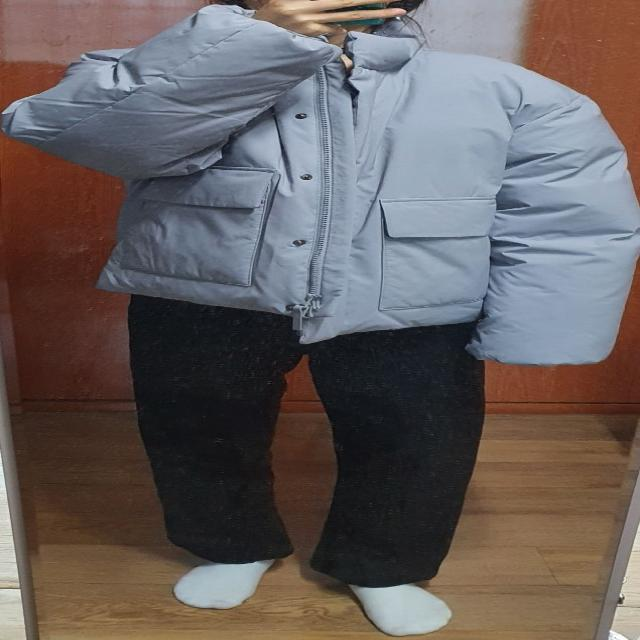padding: (0, 0, 640, 366)
slacks: (123, 287, 484, 587)
